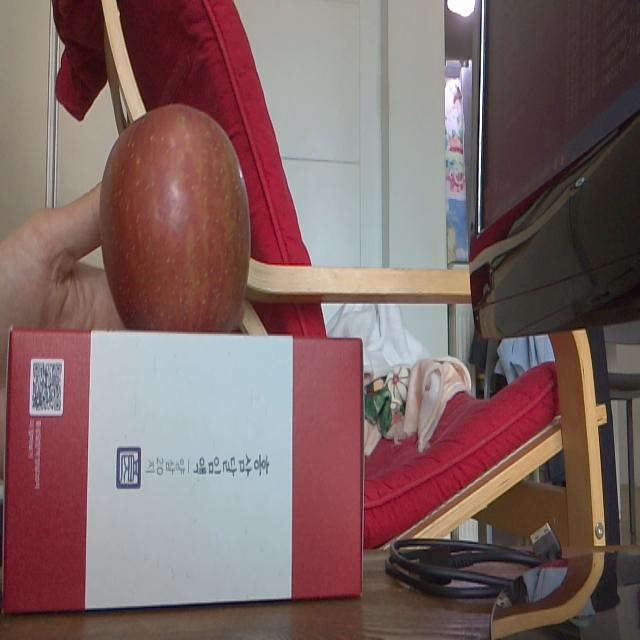apple: (100, 106, 252, 333)
